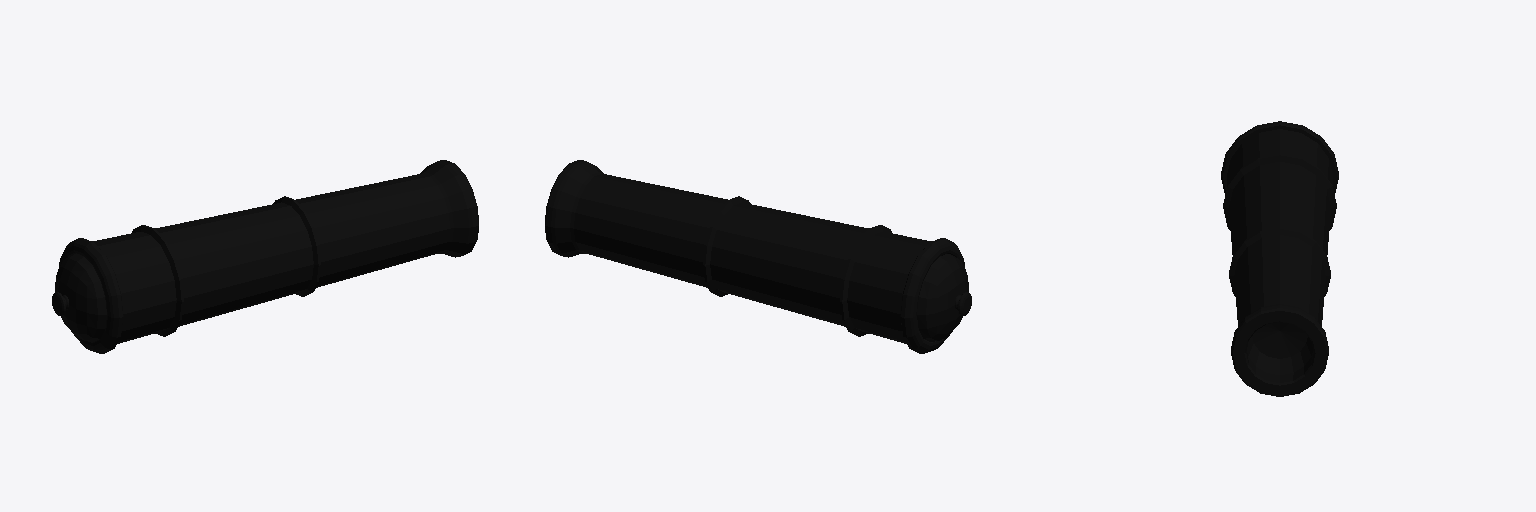
Rendered from cannon.obj.
3 renders of one model, left to right at view 1: azimuth 30°, elevation 25°; view 2: azimuth 150°, elevation 25°; view 3: azimuth 270°, elevation 25°, orthographic.
Visible parts, largest first — view 1: cannon; view 2: cannon; view 3: cannon.
Boxes of the visible parts, x1=… form: cannon: x1=52, y1=160, x2=478, y2=353; cannon: x1=545, y1=160, x2=971, y2=353; cannon: x1=1221, y1=121, x2=1338, y2=396.
Size of the model in its own units: 102 by 26.16 by 26.16.